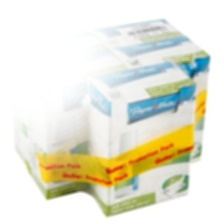book: (82, 58, 197, 220), (20, 46, 131, 201), (103, 33, 212, 176), (6, 28, 108, 174), (85, 16, 183, 148)
